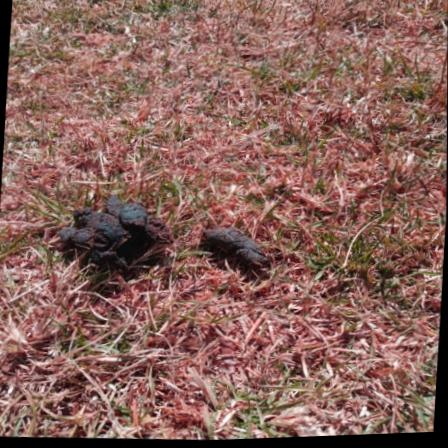dog-poop: (38, 177, 179, 294), (204, 217, 275, 279)
